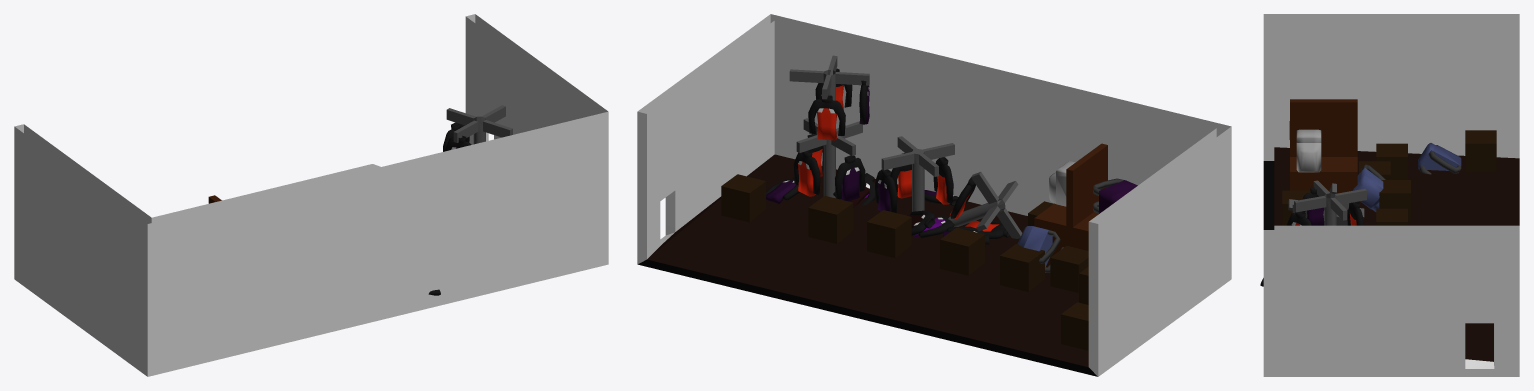
Rendered from mart3.FBX.
3 views of the same model, side by side, from view 1: azimuth 30°, elevation 25°; view 2: azimuth 150°, elevation 25°; view 3: azimuth 270°, elevation 25° (orthographic). The views are drawn at different scales.
Parts seen in each view (by area): view 1: Box008; view 2: Box008; view 3: Box008.
Part boxes in pixels (x1=…): Box008: x1=14, y1=14, x2=608, y2=376; Box008: x1=637, y1=14, x2=1231, y2=376; Box008: x1=1260, y1=14, x2=1519, y2=376.
Bounding box in the file's own units: 1500 × 489 × 762.
